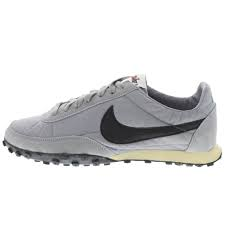nike: (98, 104, 205, 144)
